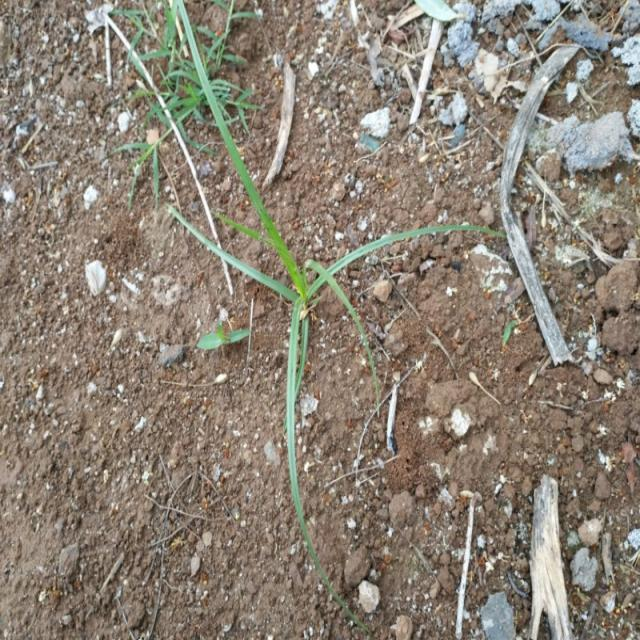sedge: (198, 123, 462, 528)
